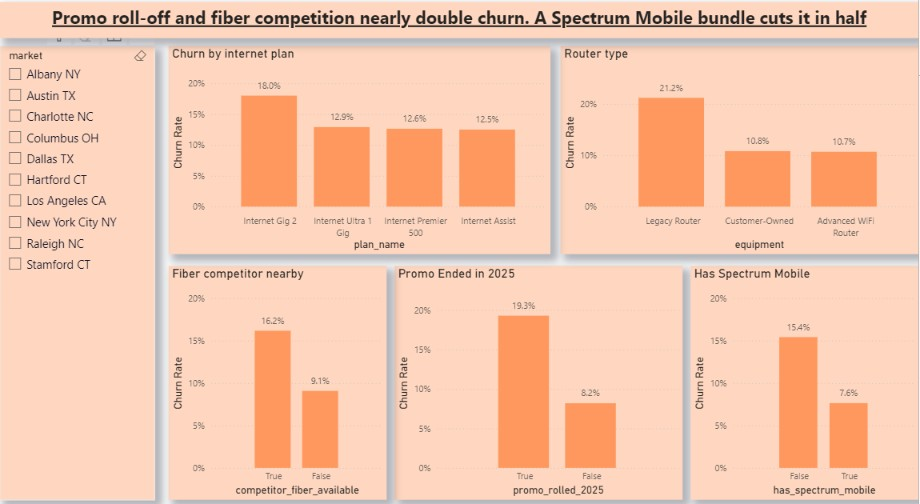

The page's visual inventory and layout, read from the dashboard file:
{"tool":"powerbi","page":{"name":"Churn Drivers","canvas":[1280,720],"ordinal":1},"visuals":[{"type":"clusteredColumnChart","title":"Promo Ended in 2025","fields":{"Category":["customers_clean.promo_rolled_2025"],"Y":["customers_clean.Churn Rate"]},"box":[561.1,376.7,395.3,320.9],"z":0},{"type":"clusteredColumnChart","title":"Fiber competitor nearby","fields":{"Category":["customers_clean.competitor_fiber_available"],"Y":["customers_clean.Churn Rate"]},"box":[251.1,376.7,299.2,320.9],"z":1000},{"type":"clusteredColumnChart","title":"Has Spectrum Mobile","fields":{"Category":["customers_clean.has_spectrum_mobile"],"Y":["customers_clean.Churn Rate"]},"box":[967.2,376.7,313.1,320.9],"z":2000},{"type":"clusteredColumnChart","title":"Router type","fields":{"Category":["customers_clean.equipment"],"Y":["customers_clean.Churn Rate"]},"box":[789,74.4,491.4,285.2],"z":3000},{"type":"clusteredColumnChart","title":"Churn by internet plan","fields":{"Category":["customers_clean.plan_name"],"Y":["customers_clean.Churn Rate"]},"box":[251.1,74.4,523.9,285.2],"z":4000},{"type":"slicer","fields":{"Values":["customers_clean.market"]},"box":[18.6,74.4,213.9,623.1],"z":5000},{"type":"textbox","box":[18.6,14,1261.7,49.6],"z":6000}]}

Visuals, with their boxes in screenshot pixels (x1, y1, x2, y2), scaled from the page's 1280x720 canvas onto the 920x504 screenshot:
"Promo Ended in 2025" clusteredColumnChart: 403/264/687/488
"Fiber competitor nearby" clusteredColumnChart: 180/264/396/488
"Has Spectrum Mobile" clusteredColumnChart: 695/264/919/488
"Router type" clusteredColumnChart: 567/52/919/252
"Churn by internet plan" clusteredColumnChart: 180/52/557/252
slicer - customers_clean.market: 13/52/167/488
textbox: 13/10/919/45
